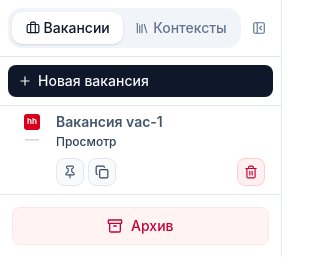
Test case: ChatsSidebar — вкладки Вакансии/Контексты › в Контекстах нет кнопки Архив
Expected: the button "Архив" is shown, x1=12 y1=207 x2=269 y2=245
Click the button "Контексты" at (181, 28), box x1=125 y1=12 x2=237 y2=44
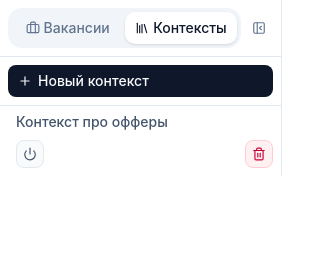
Expected: the button "Архив" is gone
Expected: the text "Контекст про офферы" is shown, x1=16 y1=113 x2=168 y2=130
